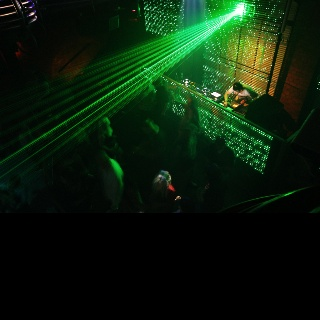without_mask: (185, 99, 192, 109), (216, 144, 225, 151), (152, 84, 160, 91), (233, 89, 241, 94)
